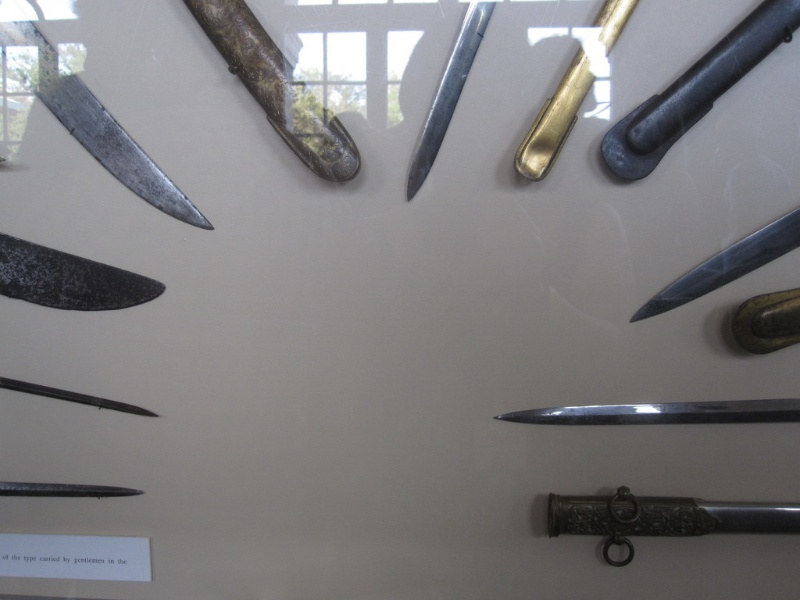knife: (1, 1, 222, 232), (627, 206, 800, 326), (3, 226, 170, 317)
